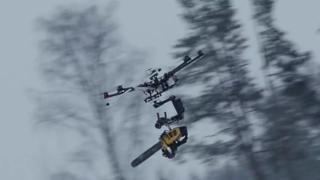UAV: (92, 50, 205, 106)
